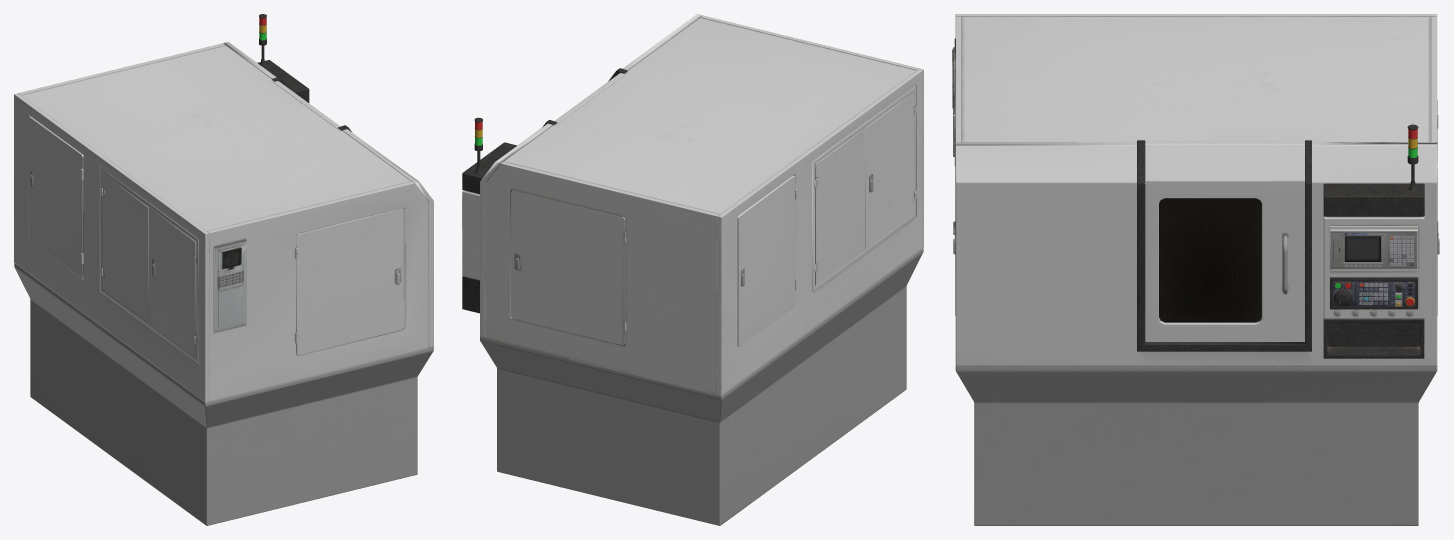
Rendered from GC-工厂机器2.fbx.
The picture shows the model from 3 angles, left to right: view 1: azimuth 30°, elevation 25°; view 2: azimuth 150°, elevation 25°; view 3: azimuth 270°, elevation 25°; orthographic projection. The views are drawn at different scales.
Parts seen in each view (by area): view 1: GC-工厂机器2; view 2: GC-工厂机器2; view 3: GC-工厂机器2.
Boxes of the visible parts, box(x1,y1,x2,y2) form: GC-工厂机器2: box(14, 14, 433, 525); GC-工厂机器2: box(462, 14, 923, 525); GC-工厂机器2: box(952, 14, 1439, 525).
Size of the model in its own units: 1.53 by 1.99 by 1.85.
